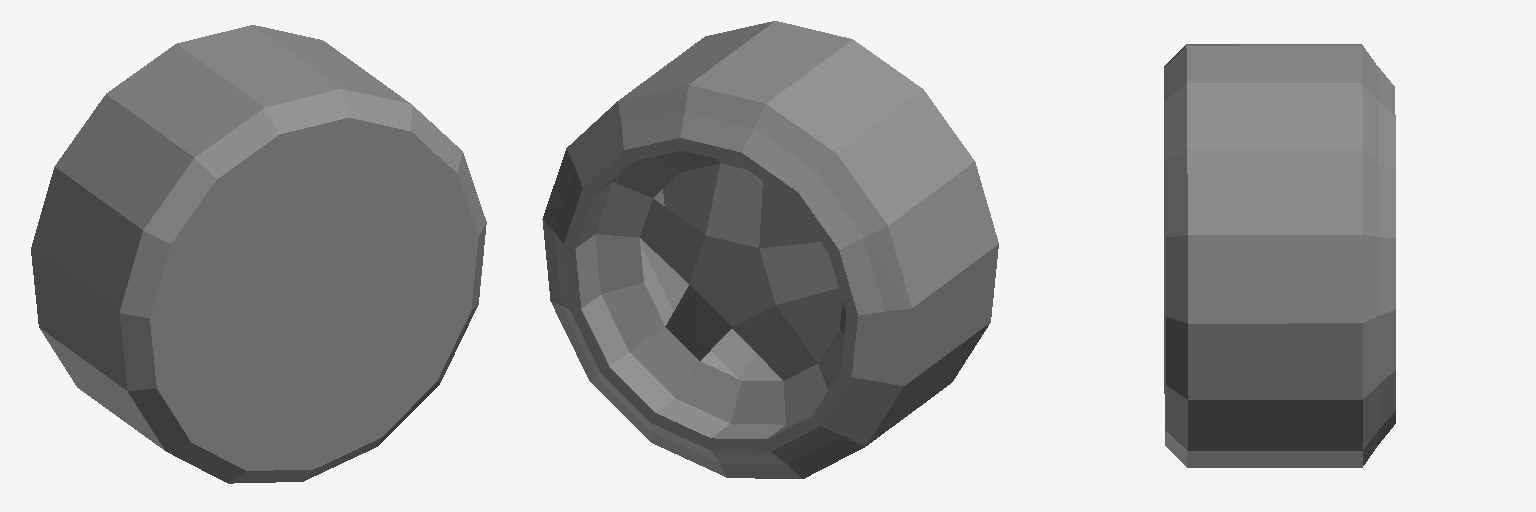
File: Llanta_AE86.obj
3 views of the same model, side by side, from view 1: azimuth 30°, elevation 25°; view 2: azimuth 150°, elevation 25°; view 3: azimuth 270°, elevation 25° (orthographic).
Visible parts, largest first — view 1: Llanta_AE86; view 2: Llanta_AE86; view 3: Llanta_AE86.
Boxes of the visible parts, <box> form: Llanta_AE86: <box>31,25,486,483</box>; Llanta_AE86: <box>542,21,998,478</box>; Llanta_AE86: <box>1164,44,1395,467</box>.
Bounding box in the file's own units: 0.5427 × 0.5385 × 0.2958.